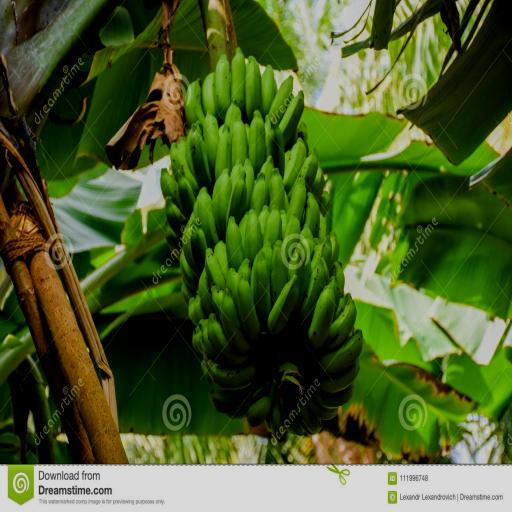banana-unripe: (148, 34, 374, 472)
